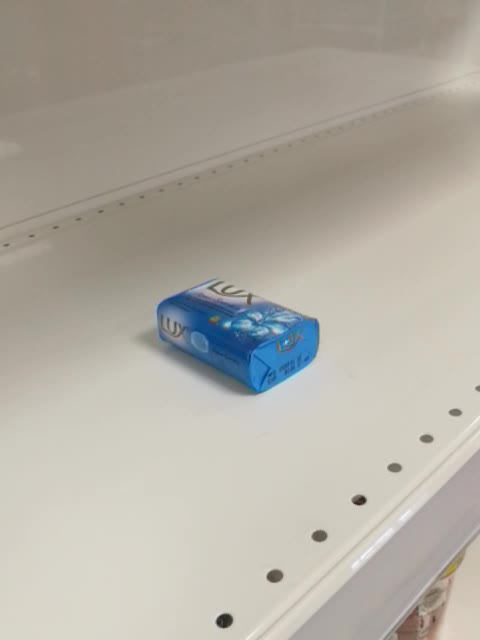soap: (154, 275, 320, 394)
